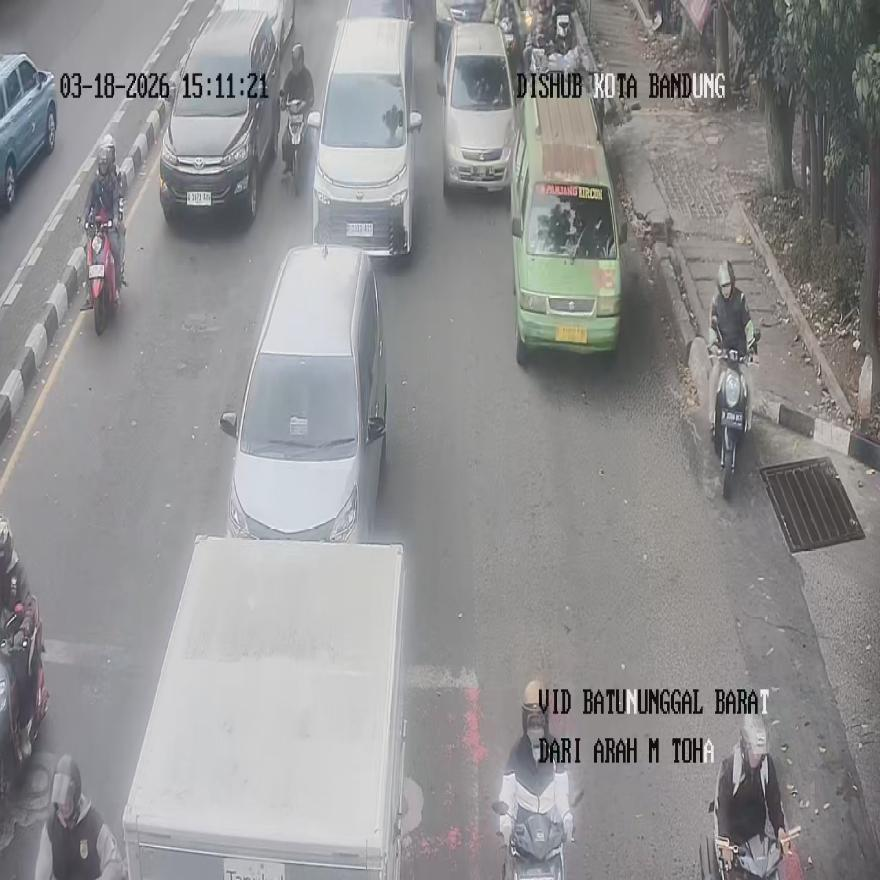Mobil: (121, 534, 408, 878), (220, 242, 386, 540), (510, 92, 626, 363), (308, 17, 421, 254), (160, 6, 279, 224), (437, 20, 517, 193), (0, 52, 56, 207)
Motor: (0, 601, 47, 813), (493, 786, 582, 880), (698, 799, 800, 880), (709, 348, 753, 498), (83, 200, 124, 335), (281, 99, 308, 194), (495, 0, 518, 71), (554, 5, 572, 55)
